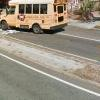Bus: (2, 1, 70, 34)
